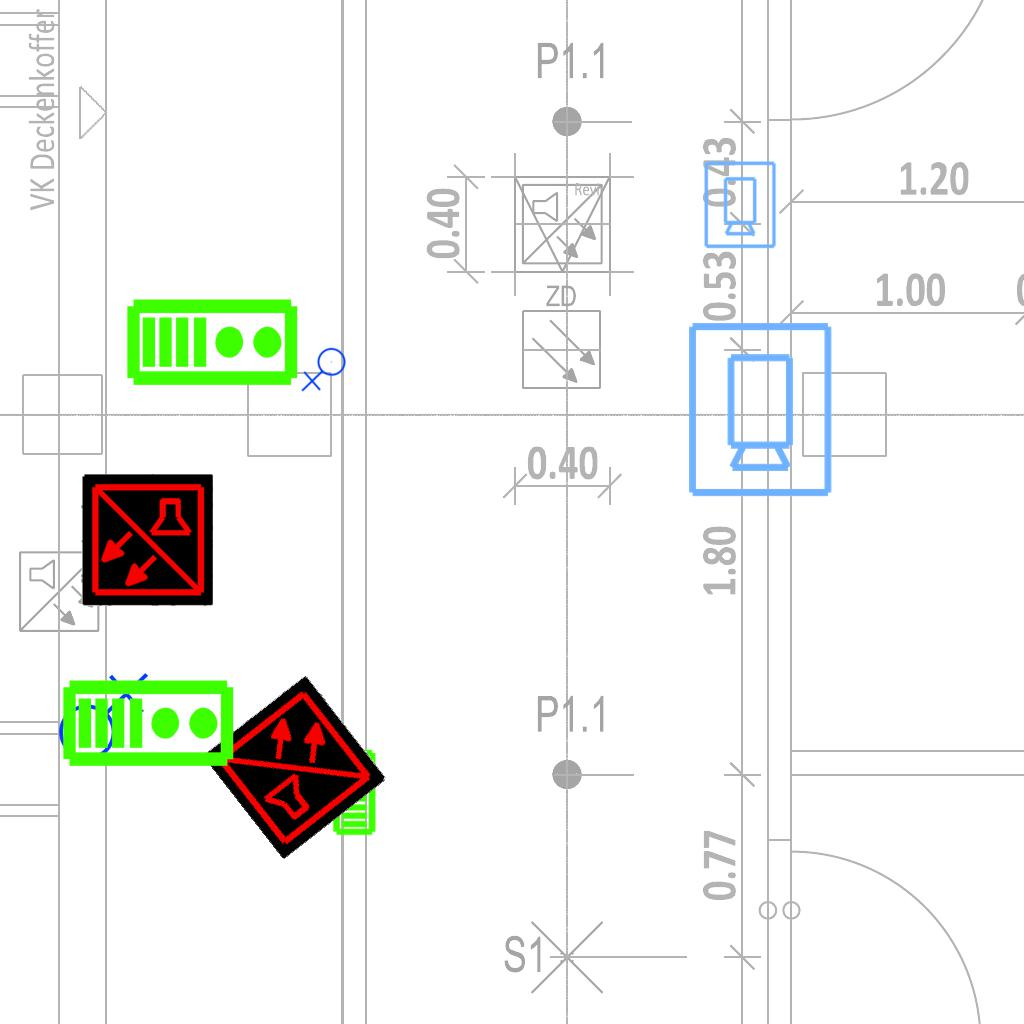Elektroanschluss_allgemein_230V_Geraeteanschlussdose_230V: (50, 668, 149, 762), (301, 347, 350, 394)
Gegensprechanlage_mit_Video: (125, 293, 301, 388), (61, 674, 237, 769), (330, 748, 377, 836)
KFO_Kamera_mit_Festobjektiv: (682, 318, 836, 500), (701, 159, 778, 250)
OKW_Multisensormelder_(Kombination_optischer_Rauch-Kahlenmonoxid_Waerme-Melder): (202, 674, 388, 860), (81, 474, 213, 606)
